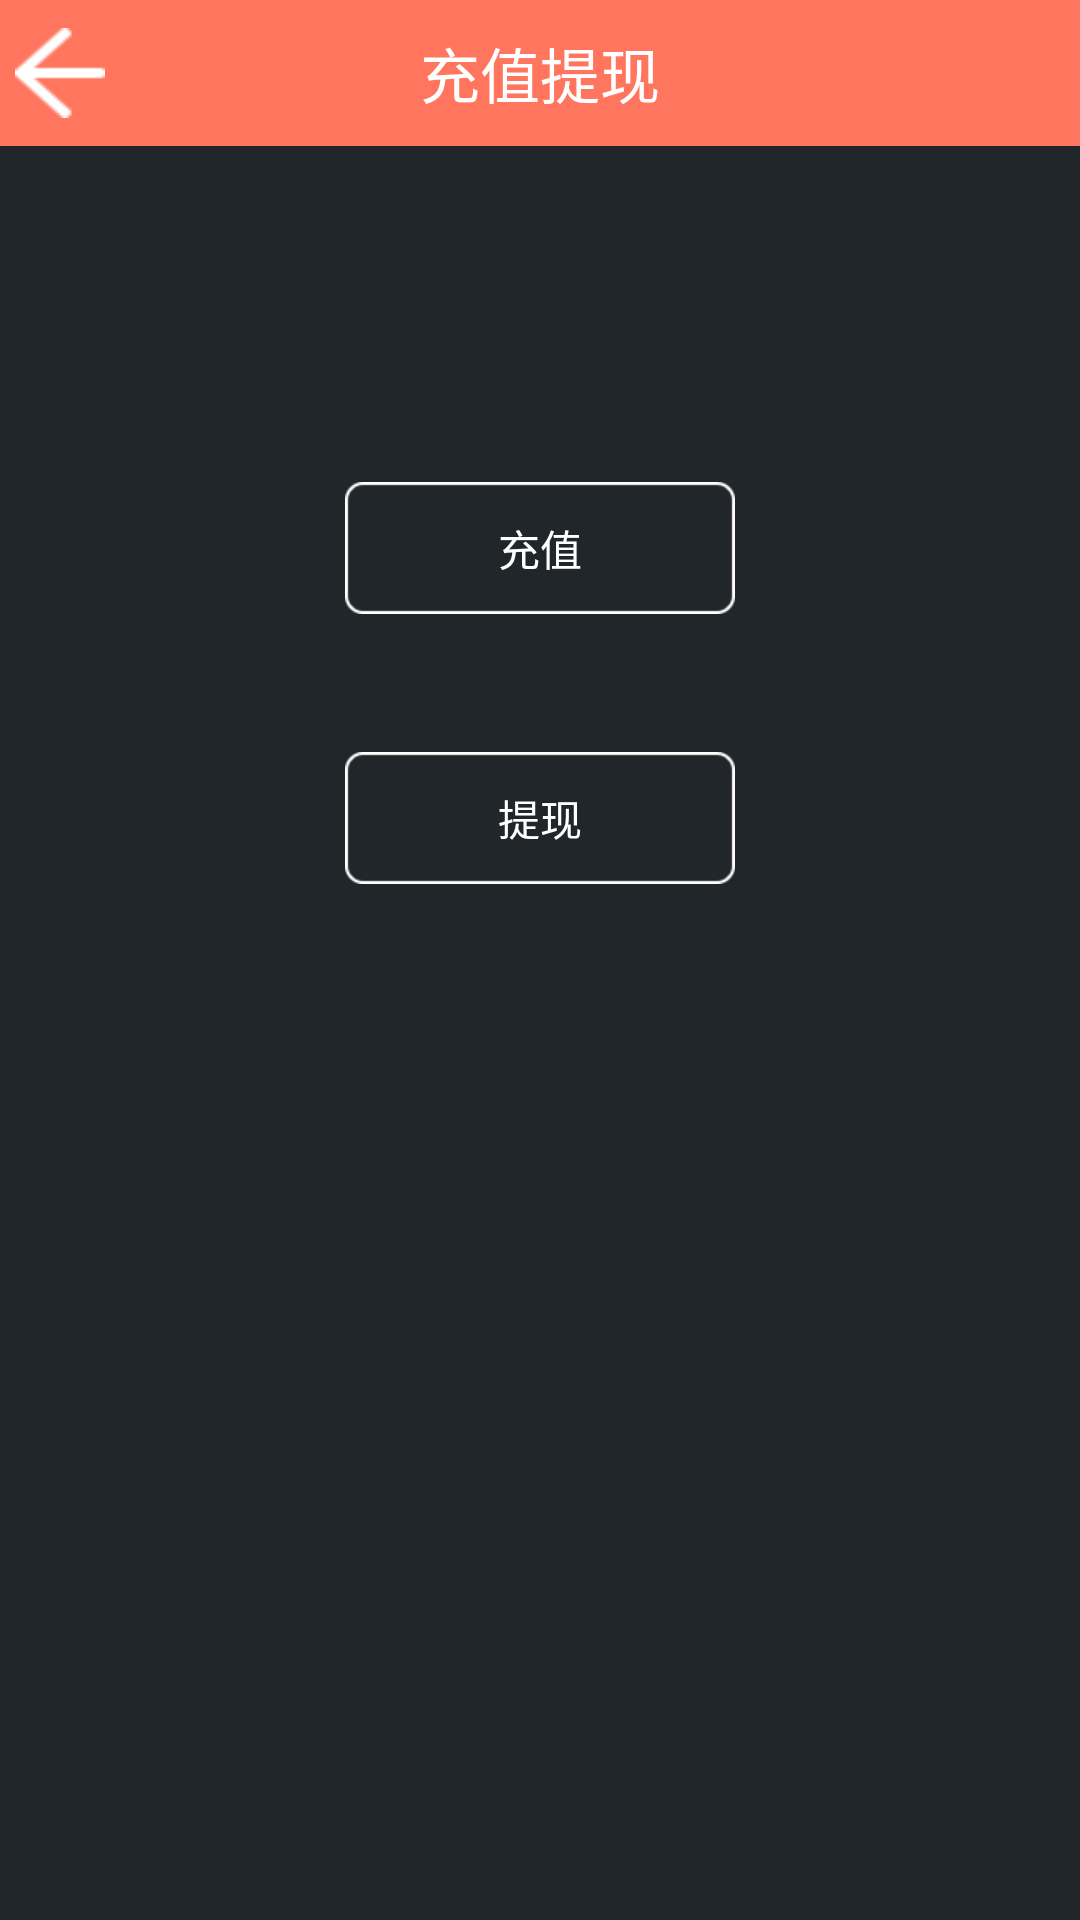

Icon click points for this 1080 x 1920 phone screenshot, format [x,y]:
back: [60,73]
